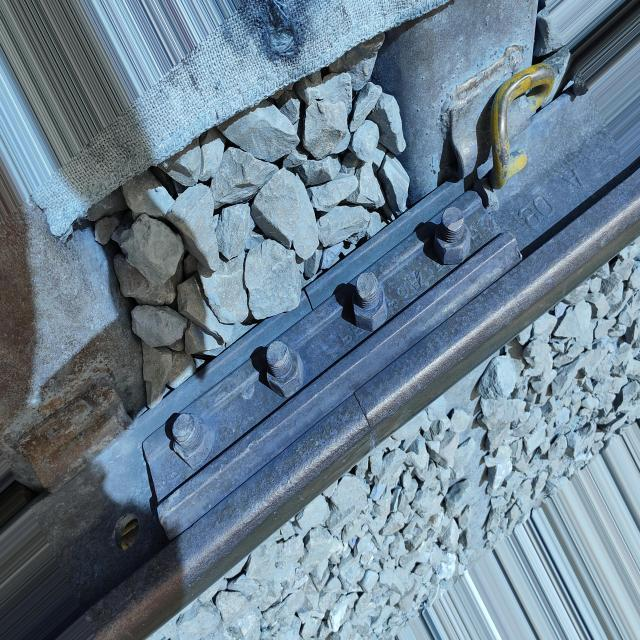Good Fasteners: (441, 32, 555, 194)
Good Joint: (139, 186, 528, 544)
